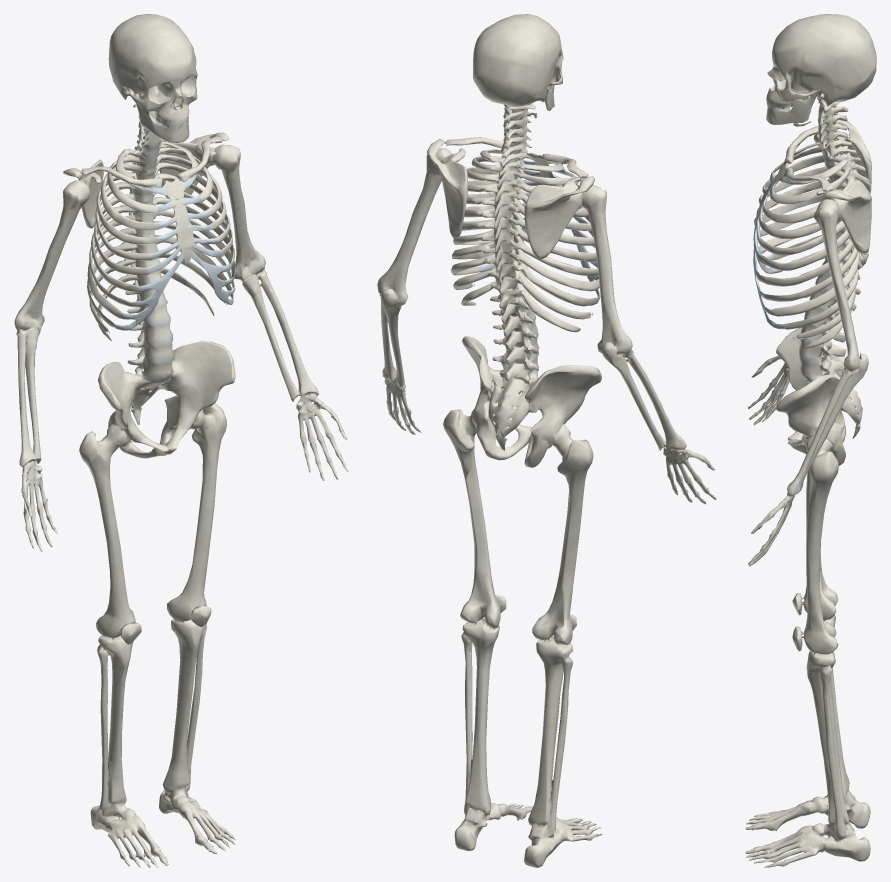
Rendered from skeletal_system.glb.
The picture shows the model from 3 angles, left to right: view 1: azimuth 30°, elevation 25°; view 2: azimuth 150°, elevation 25°; view 3: azimuth 270°, elevation 25°; orthographic projection.
Parts seen in each view (by area): view 1: SkeletonV2_1; view 2: SkeletonV2_1; view 3: SkeletonV2_1.
Boxes of the visible parts, box(x1,y1,x2,y2) form: SkeletonV2_1: box(14, 14, 348, 867); SkeletonV2_1: box(377, 14, 716, 867); SkeletonV2_1: box(745, 14, 876, 867).
Bounding box in the file's own units: 0.7281 × 1.78 × 0.2566.
1 material, 1 textured.
